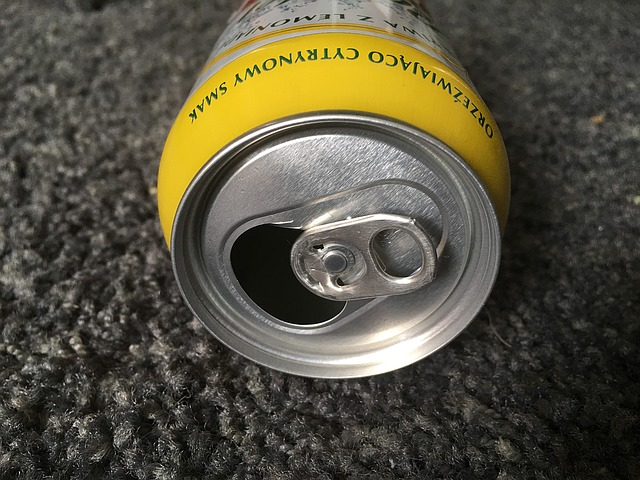can: (132, 1, 547, 384)
